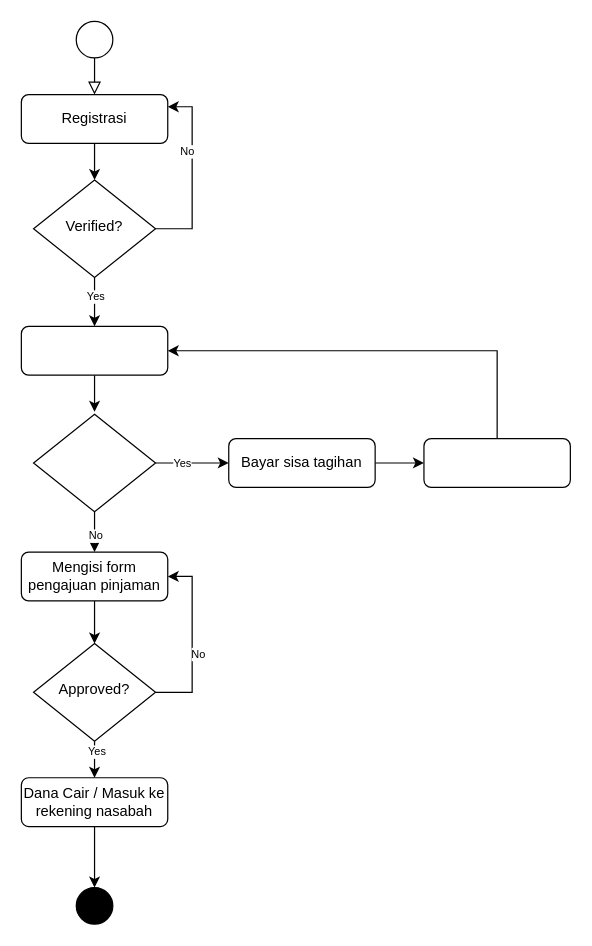
Some shapes in this 592 by 946 pixel diagram are drawn without their labels. The centre of each missing label's shape, as x and y in pixels:
Lunas: point (496, 462)
Mengajukan Pinjaman: point (94, 350)
Punya Pinjaman Belum Selesai ?: point (94, 462)
